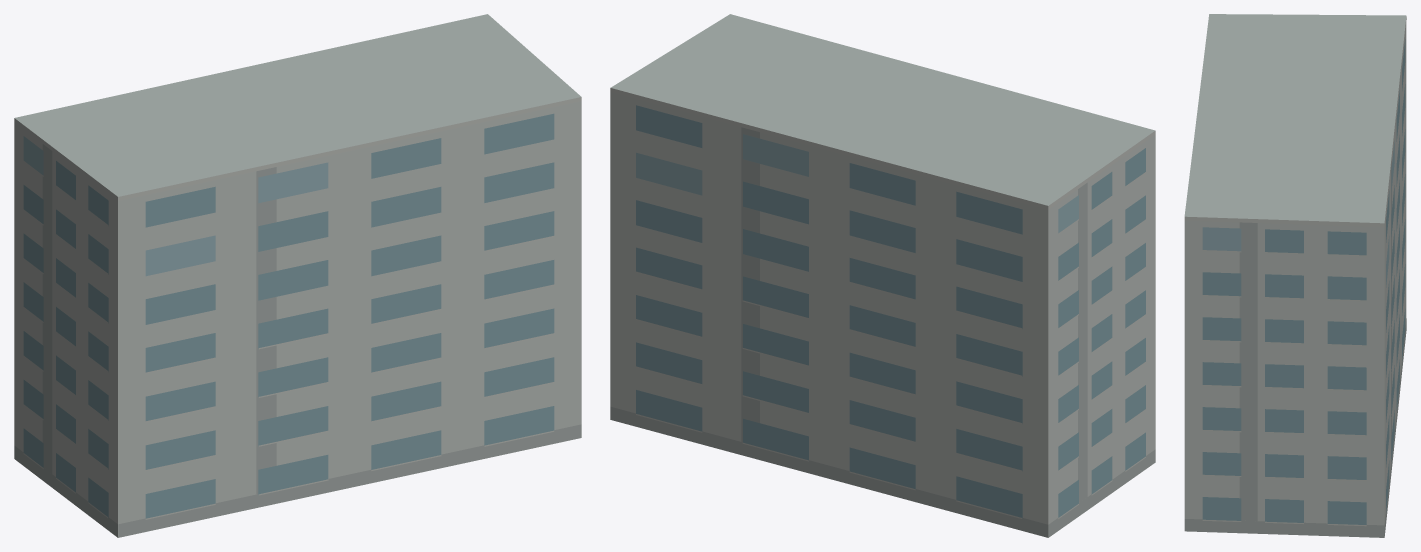
Rendered from survey-upis-32753843.glb.
3 renders of one model, left to right at view 1: azimuth 30°, elevation 25°; view 2: azimuth 150°, elevation 25°; view 3: azimuth 270°, elevation 25°, orthographic. The views are drawn at different scales.
Visible parts, largest first — view 1: survey-upis-32753843.tmp; view 2: survey-upis-32753843.tmp; view 3: survey-upis-32753843.tmp.
Part boxes in pixels (box(x1,y1,x2,y2)): survey-upis-32753843.tmp: box(14, 14, 581, 537); survey-upis-32753843.tmp: box(610, 14, 1155, 537); survey-upis-32753843.tmp: box(1184, 14, 1406, 537).
Size of the model in its own units: 28.25 by 19.8 by 12.67.
